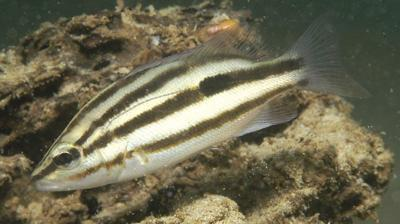Lutjanidae -Snappers-: (28, 9, 377, 198)
